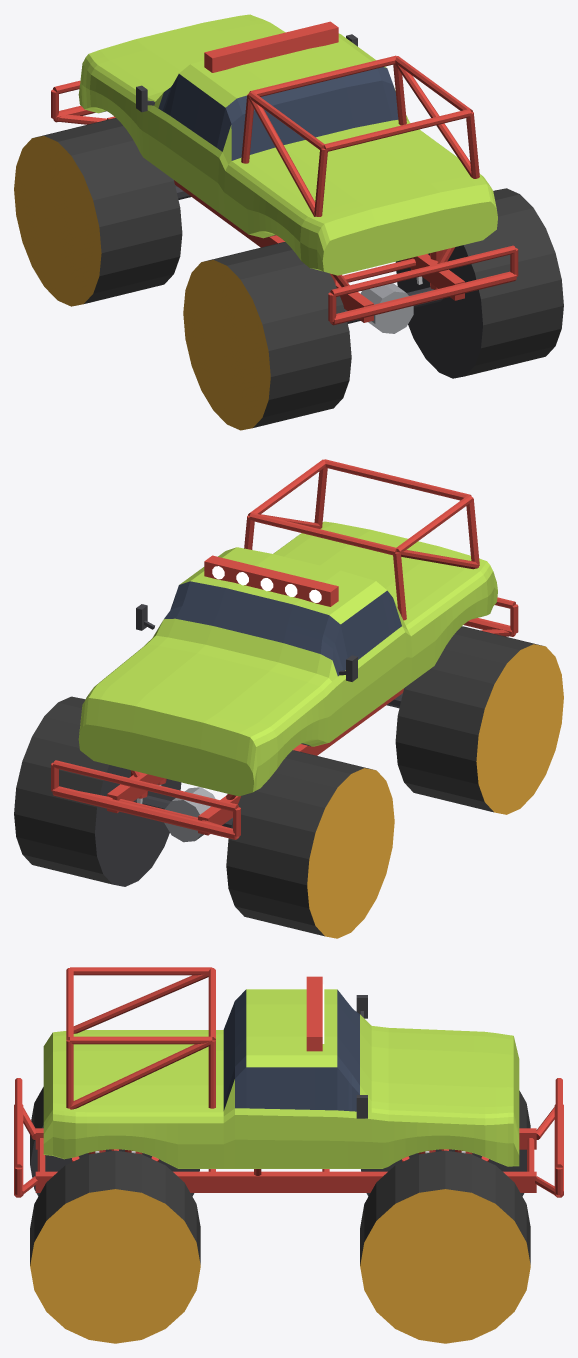
The model's file is swamp.glb.
3 renders of one model, top to bottom at view 1: azimuth 30°, elevation 25°; view 2: azimuth 150°, elevation 25°; view 3: azimuth 270°, elevation 25°, orthographic. The views are drawn at different scales.
Parts seen in each view (by area): view 1: Body, Wheel_RL, Wheel_FL, Wheel_RR, Frame, LightBar, Axle_R; view 2: Body, Wheel_RL, Wheel_FL, Wheel_FR, Frame, LightBar, Axle_F; view 3: Body, Wheel_FR, Wheel_RR, Frame, LightBar, Wheel_RL, Wheel_FL.
Part boxes in pixels (left/top/right/bottom): Body: left=78, top=14, right=497, bottom=275; Wheel_RL: left=183, top=242, right=351, bottom=430; Wheel_FL: left=14, top=118, right=182, bottom=306; Wheel_RR: left=395, top=188, right=563, bottom=378; Frame: left=51, top=55, right=518, bottom=325; LightBar: left=204, top=21, right=338, bottom=72; Axle_R: left=330, top=249, right=444, bottom=333; Body: left=78, top=521, right=497, bottom=796; Wheel_RL: left=395, top=626, right=563, bottom=814; Wheel_FL: left=226, top=750, right=394, bottom=938; Wheel_FR: left=14, top=696, right=181, bottom=886; Frame: left=51, top=459, right=518, bottom=839; LightBar: left=204, top=555, right=338, bottom=606; Axle_F: left=131, top=771, right=232, bottom=842; Body: left=43, top=989, right=519, bottom=1168; Wheel_FR: left=360, top=1150, right=530, bottom=1343; Wheel_RR: left=30, top=1150, right=200, bottom=1343; Frame: left=14, top=967, right=563, bottom=1197; LightBar: left=306, top=976, right=324, bottom=1051; Wheel_RL: left=30, top=1087, right=199, bottom=1196; Wheel_FL: left=361, top=1090, right=530, bottom=1196.
Bounding box in the file's own units: 2.9 × 2.63 × 4.83.
